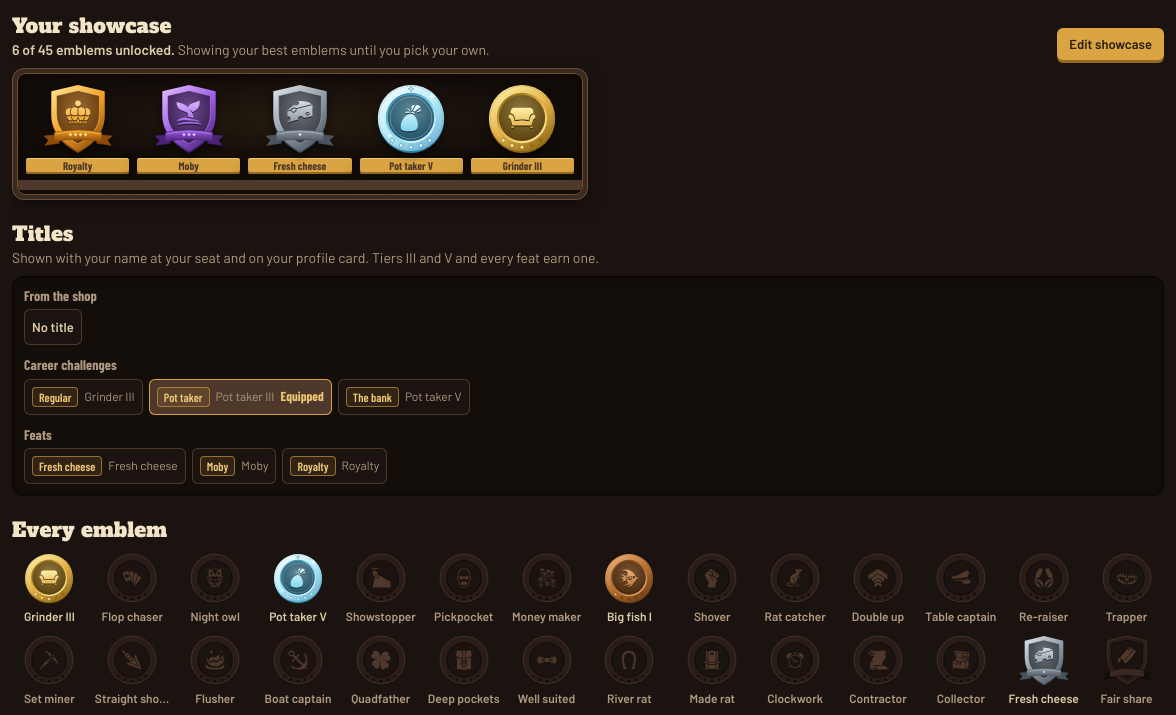
Test case: CabinetTab › toasts when equipping a title fails, and removes a title with its own wording
Click the button with aria-label "Regular (Grinder III)" at (83, 397), box [24, 379, 143, 415]
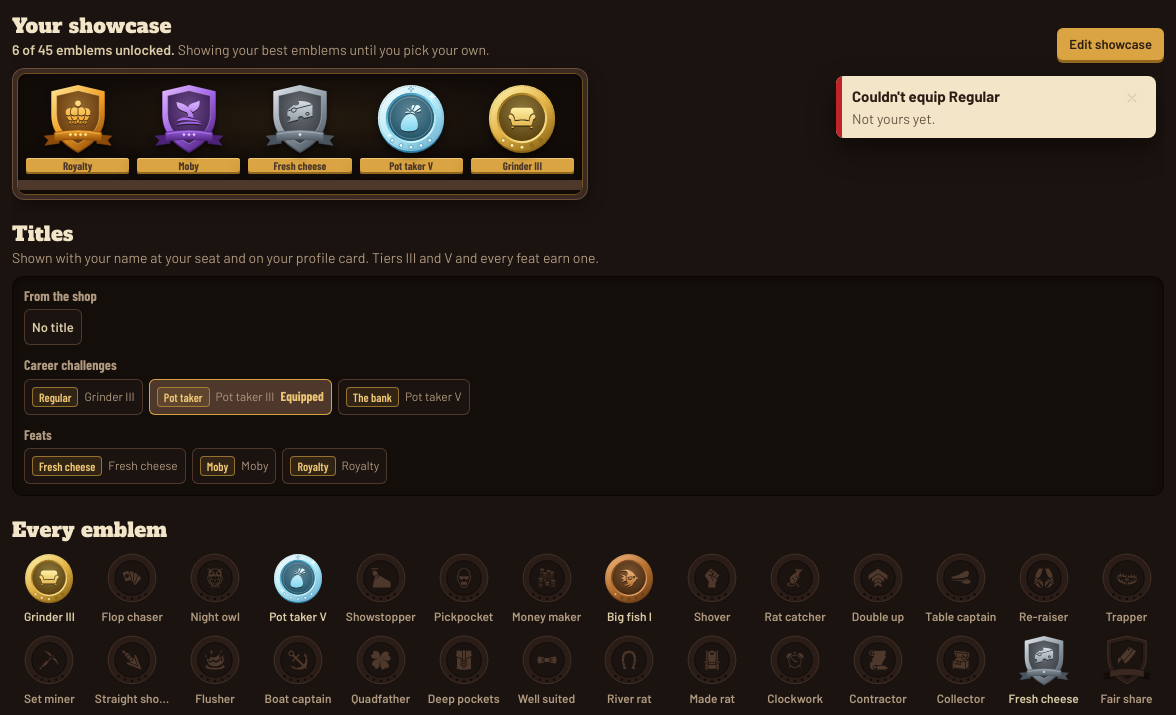
Expected: the text "Couldn't equip Regular" is shown, [852, 87, 1000, 105]
Expected: the text "Not yours yet." is shown, [852, 110, 935, 127]
Click the button "No title" at (53, 327), box [24, 309, 82, 345]
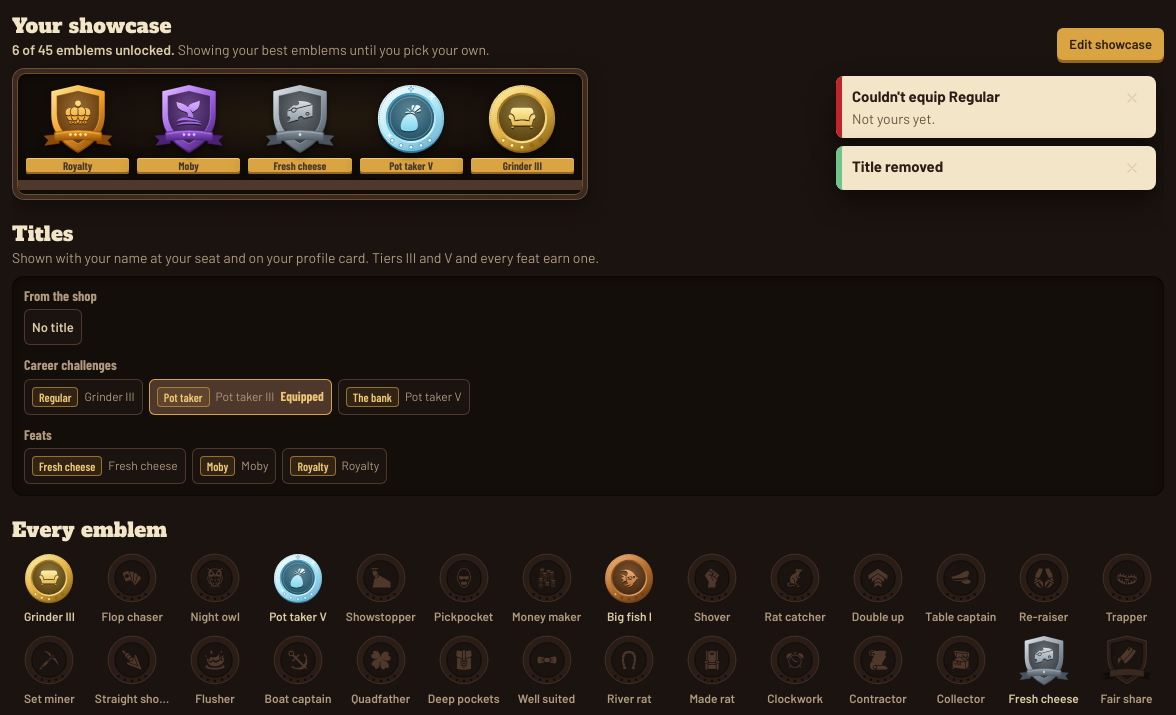
Expected: the text "Title removed" is shown, [852, 157, 943, 175]
